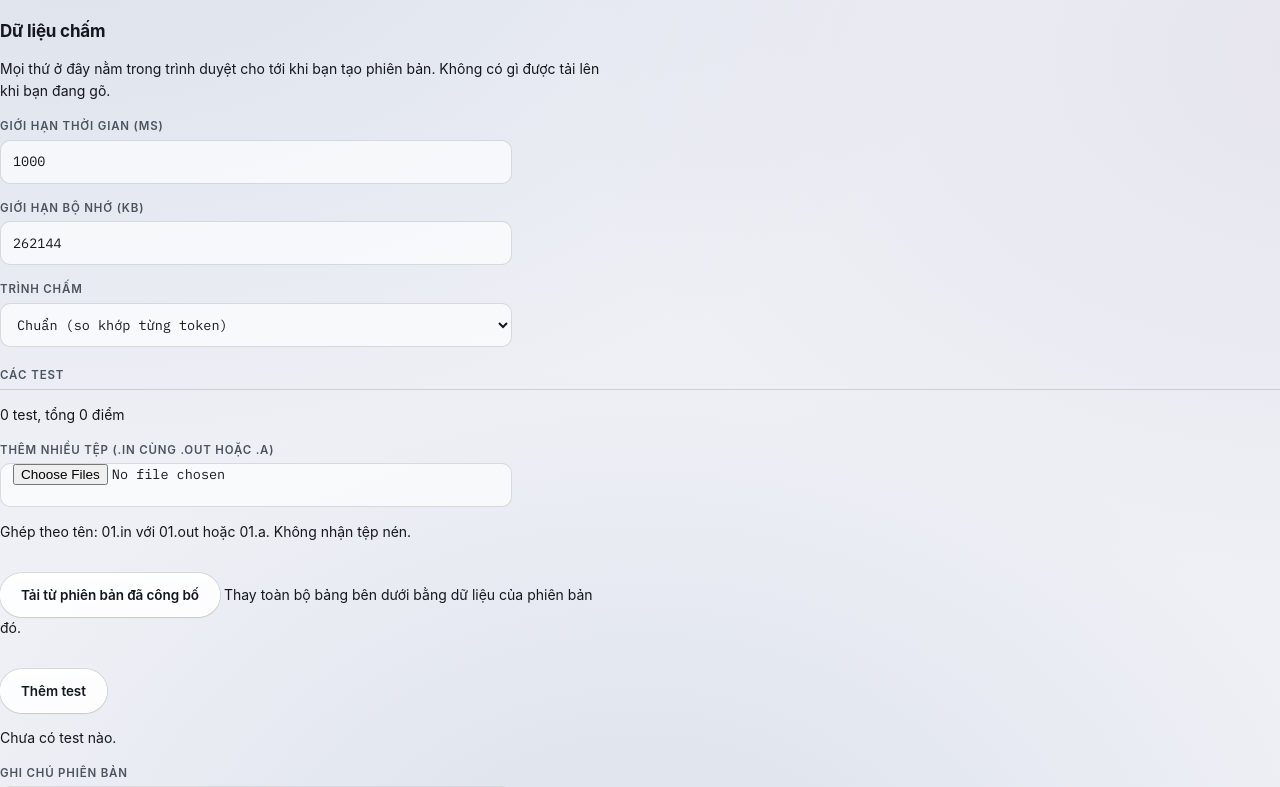
Scenario: the test-data tab › loads the published revision back into the table, then discards the draft it read through
The width and height of the screenshot is (1280, 787).
What coordinates should you click on to do the following:
click the button "Tải từ phiên bản đã công bố"
I would click on:
 (110, 595)
Its box is [0,573,220,617].
(page scrolled)
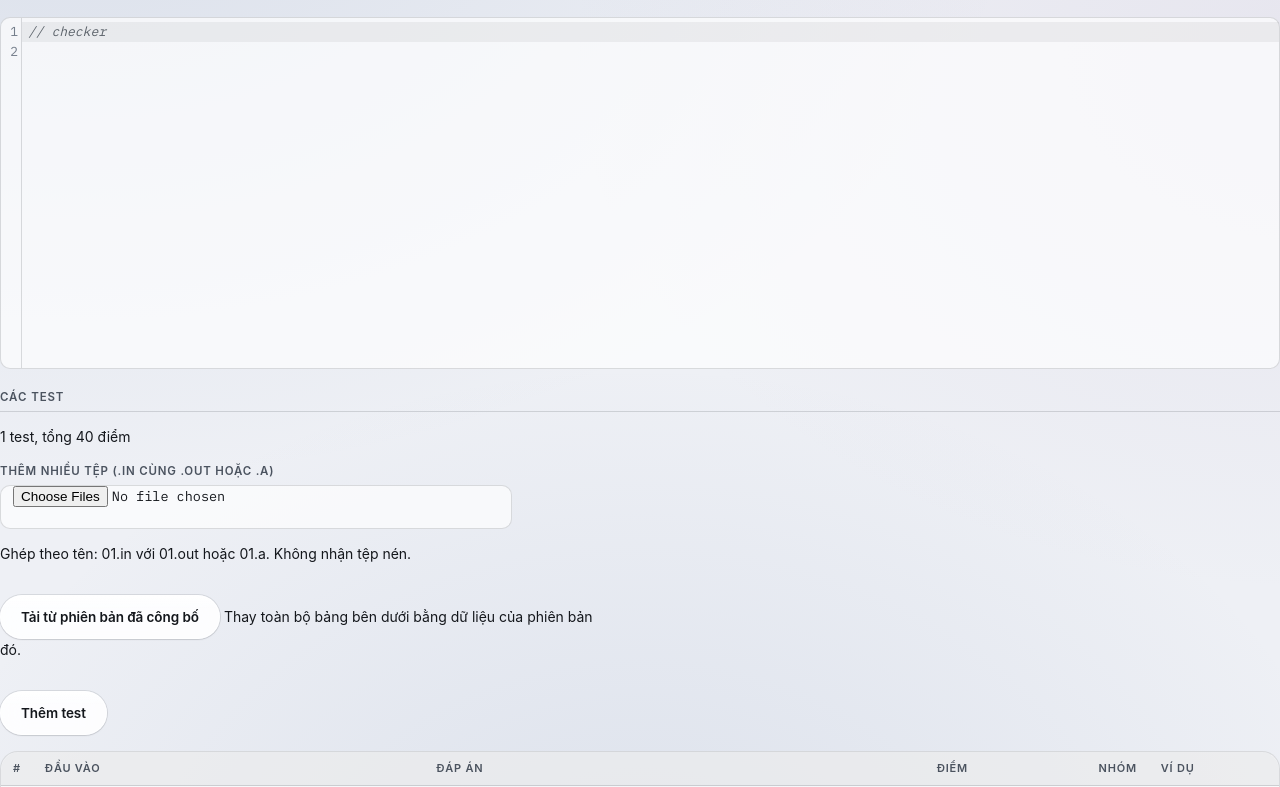
Check: the text "1 test, tổng 40 điểm" is shown, box [0,428,130,445]
